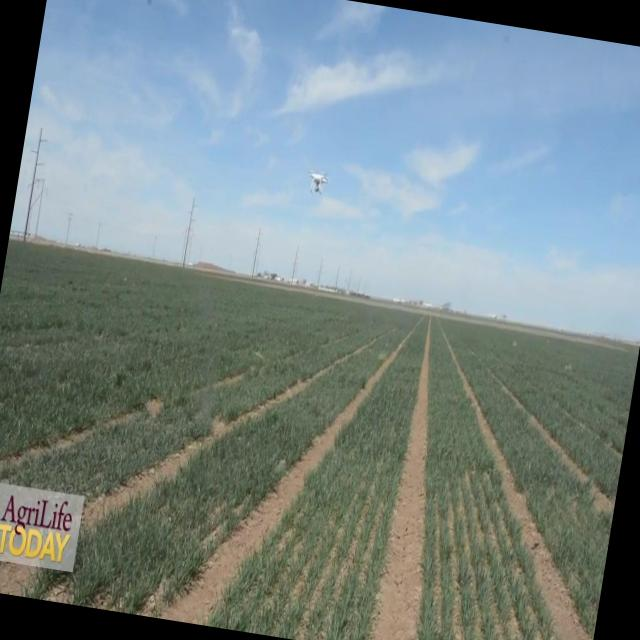drone: (303, 168, 330, 198)
